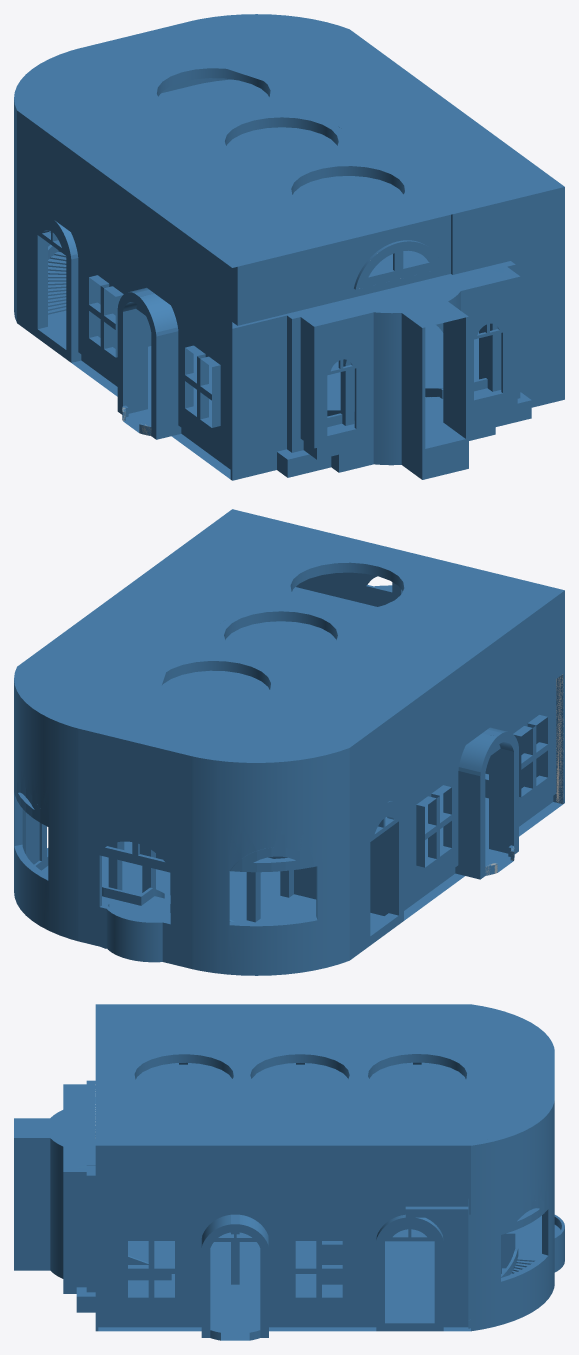
Rendered from Final Intro Level.fbx.
3 renders of one model, top to bottom at view 1: azimuth 30°, elevation 25°; view 2: azimuth 150°, elevation 25°; view 3: azimuth 270°, elevation 25°, orthographic. The views are drawn at different scales.
Visible parts, largest first — view 1: Model; view 2: Model; view 3: Model.
Part boxes in pixels (left/top/right/bottom): Model: left=14, top=14, right=564, bottom=480; Model: left=14, top=509, right=564, bottom=975; Model: left=14, top=1004, right=564, bottom=1340.
Bounding box in the file's own units: 1552 × 844 × 2261.
